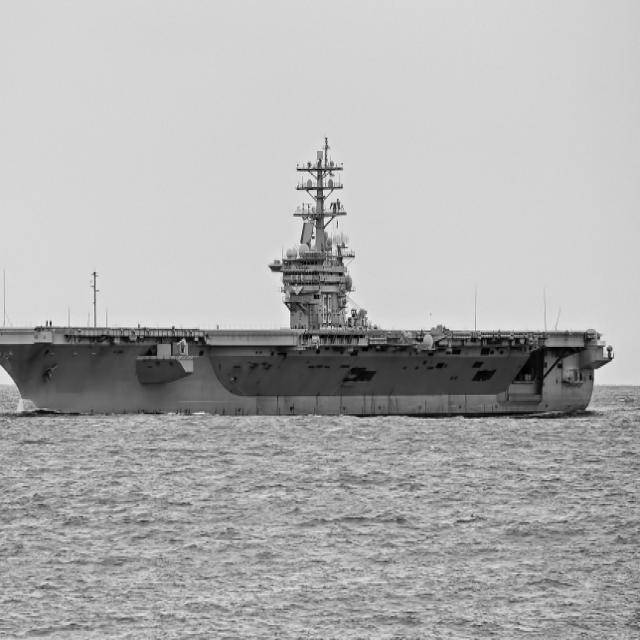Portanaves: (1, 131, 619, 421)
